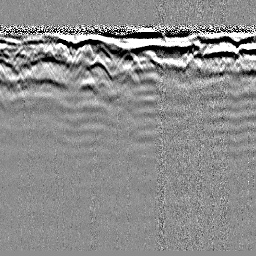cavity: (115, 50, 143, 72)
